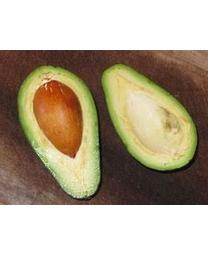avocado: (15, 64, 102, 200), (100, 63, 198, 172)
